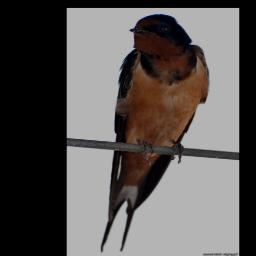Swallow: (99, 13, 210, 254)
